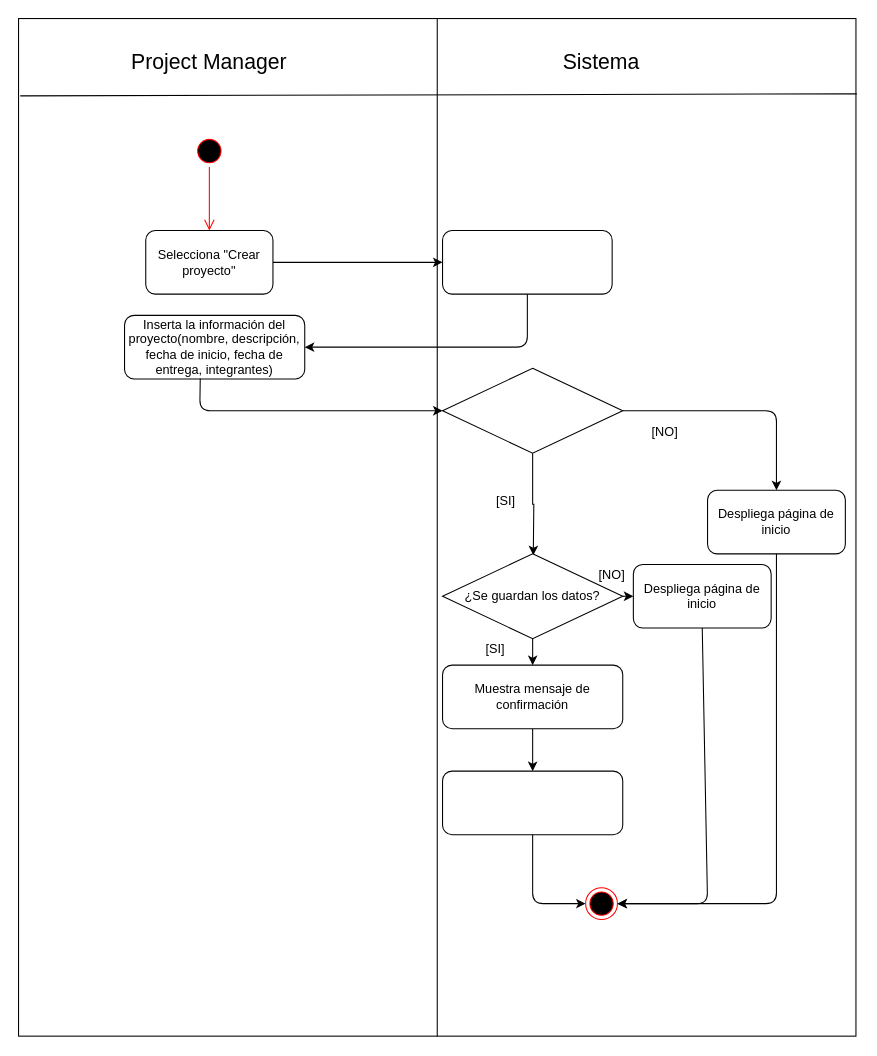
Image size: 877x1056. Some labels were removed from this diagram. The centre of each missing label's shape, as x and y in pixels:
Despliega interfaz para crear proyecto: [526,261]
Se actualiza la página: [532,802]
¿Se crea el proyecto?: [532,410]
